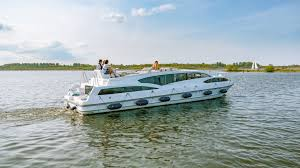boat: (64, 58, 235, 117)
